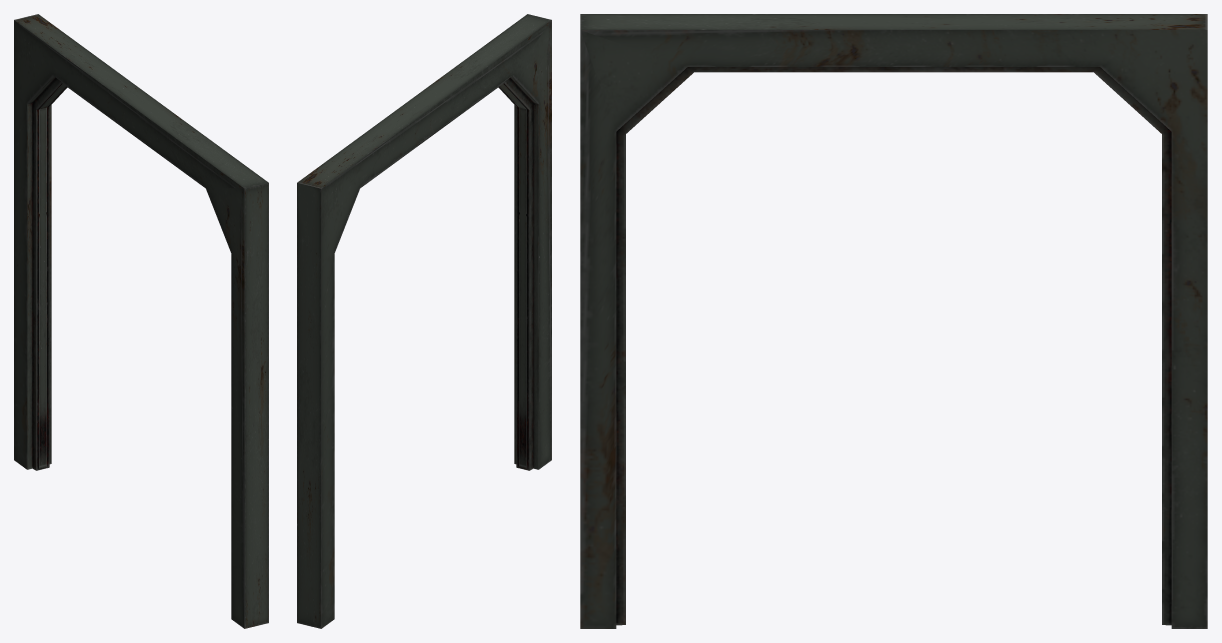
Rendered from Frame.fbx.
The picture shows the model from 3 angles, left to right: view 1: azimuth 30°, elevation 25°; view 2: azimuth 150°, elevation 25°; view 3: azimuth 270°, elevation 25°; orthographic projection. The views are drawn at different scales.
Parts seen in each view (by area): view 1: 12.002; view 2: 12.002; view 3: 12.002.
Boxes of the visible parts, x1,y1,x2,y2 form: 12.002: (14,14,268,628); 12.002: (297,14,551,628); 12.002: (580,14,1207,628).
Bounding box in the file's own units: 11.05 × 191 × 181.
